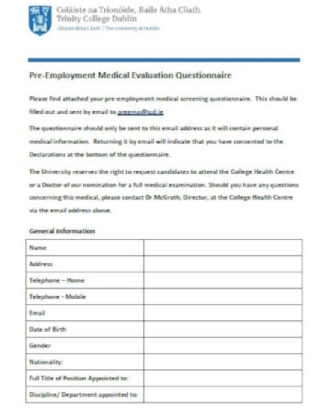textbox: (141, 251, 307, 275), (140, 269, 305, 293), (141, 317, 305, 339), (142, 237, 304, 259), (140, 335, 307, 356), (141, 368, 308, 389), (141, 286, 307, 307), (141, 302, 306, 323), (141, 351, 306, 372), (141, 384, 309, 404)
